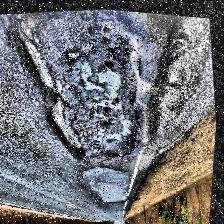pothole: (5, 8, 63, 94), (45, 90, 93, 164)
